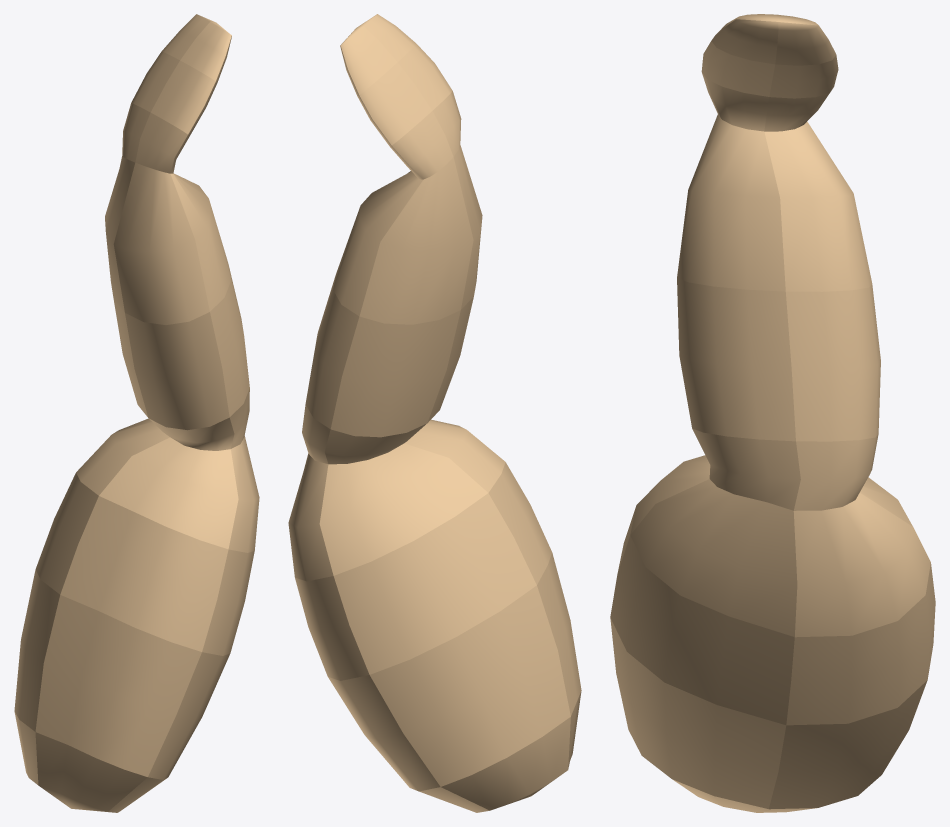
The model's file is Frog_Leg_Raw.fbx.
3 renders of one model, left to right at view 1: azimuth 30°, elevation 25°; view 2: azimuth 150°, elevation 25°; view 3: azimuth 270°, elevation 25°, orthographic. The views are drawn at different scales.
Parts seen in each view (by area): view 1: pCylinder5; view 2: pCylinder5; view 3: pCylinder5.
Boxes of the visible parts, box(x1,y1,x2,y2) form: pCylinder5: box(14, 14, 259, 812); pCylinder5: box(288, 14, 581, 812); pCylinder5: box(610, 14, 935, 812).
Size of the model in its own units: 1.19 by 3.61 by 1.23.
